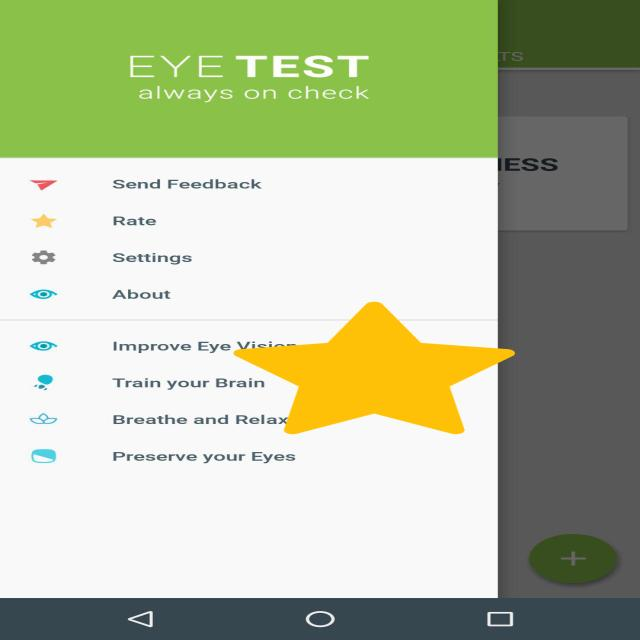forced continuity: (233, 302, 515, 434)
